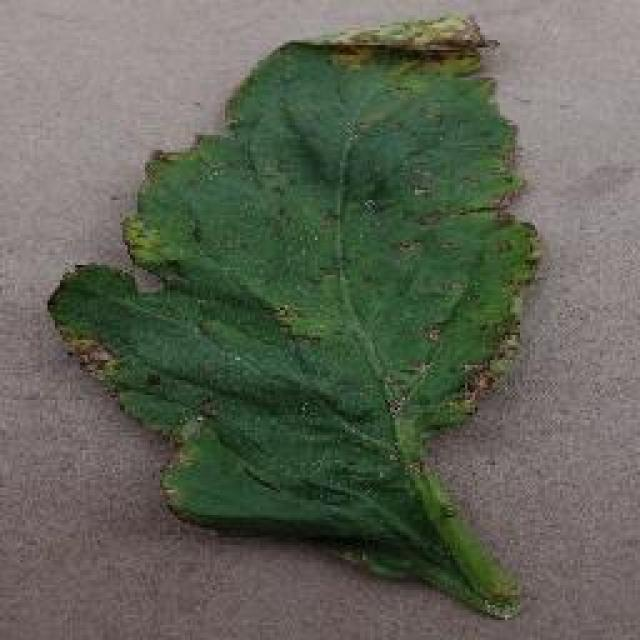Tomato___Bacterial_spot: (37, 15, 546, 623)
